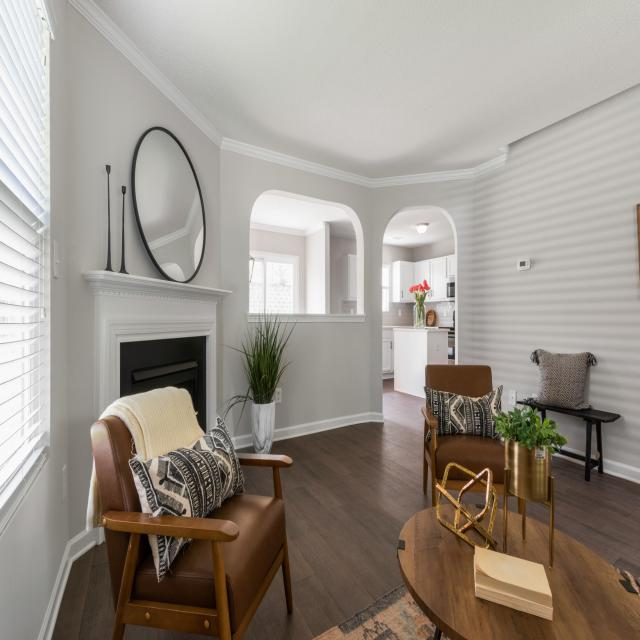floor: (240, 378, 432, 640), (551, 455, 640, 578), (51, 541, 116, 640), (122, 624, 219, 640), (240, 465, 275, 497), (525, 500, 550, 527), (461, 491, 486, 504), (507, 496, 518, 514), (445, 490, 461, 502), (234, 446, 255, 453), (497, 494, 504, 509), (440, 496, 450, 505)
wall: (67, 0, 221, 540), (473, 82, 640, 470), (0, 0, 70, 640), (220, 150, 372, 430), (371, 178, 474, 414), (249, 228, 305, 314), (216, 298, 249, 410), (382, 244, 414, 327), (330, 235, 357, 314), (545, 409, 587, 453), (305, 225, 325, 313), (350, 214, 364, 314), (413, 238, 455, 262), (423, 301, 455, 327), (225, 401, 245, 437), (234, 400, 252, 437), (325, 222, 330, 314), (348, 254, 357, 301), (341, 254, 349, 300), (217, 398, 232, 420), (228, 397, 239, 408), (236, 398, 243, 402), (240, 398, 246, 401), (246, 398, 251, 400)
